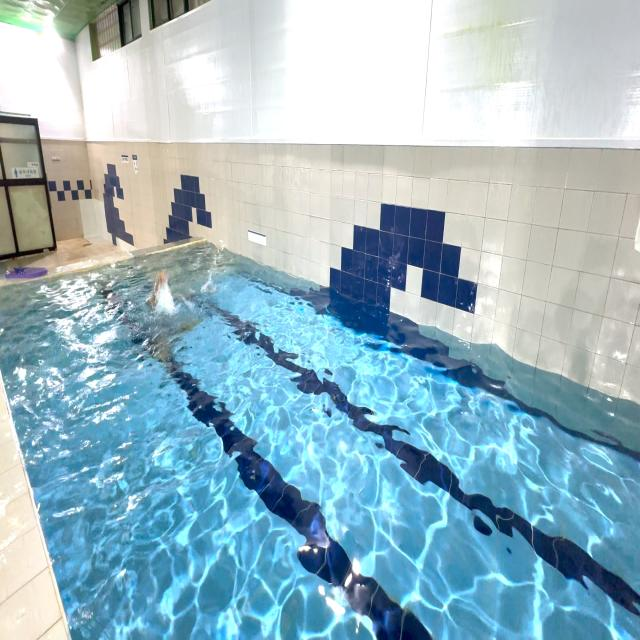Drowning: (105, 242, 246, 386)
